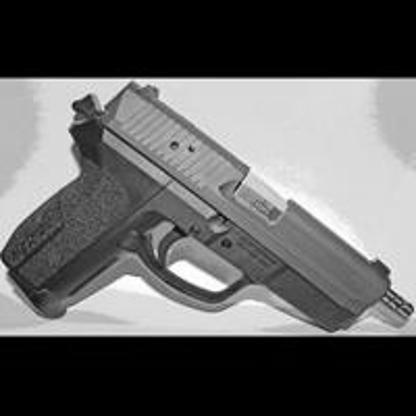weapon: (0, 81, 416, 335)
